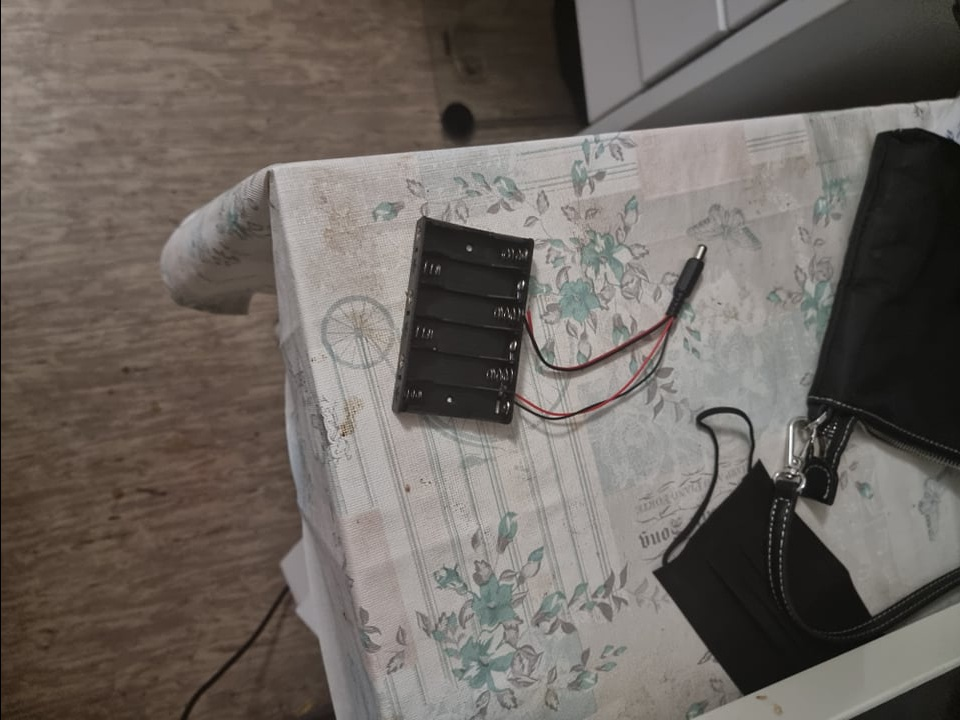BATTERY BOX: (385, 216, 540, 424)
